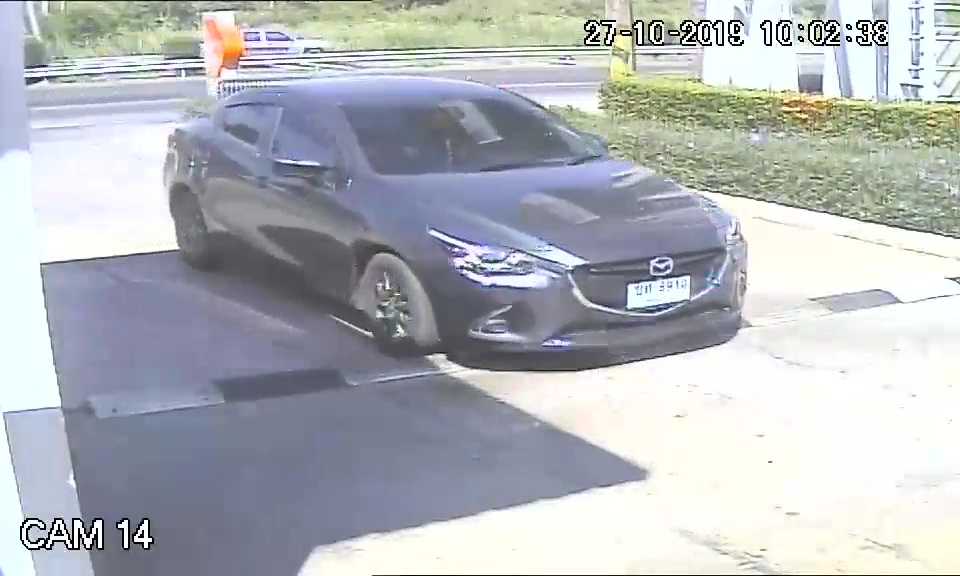sedan: (160, 72, 770, 365)
